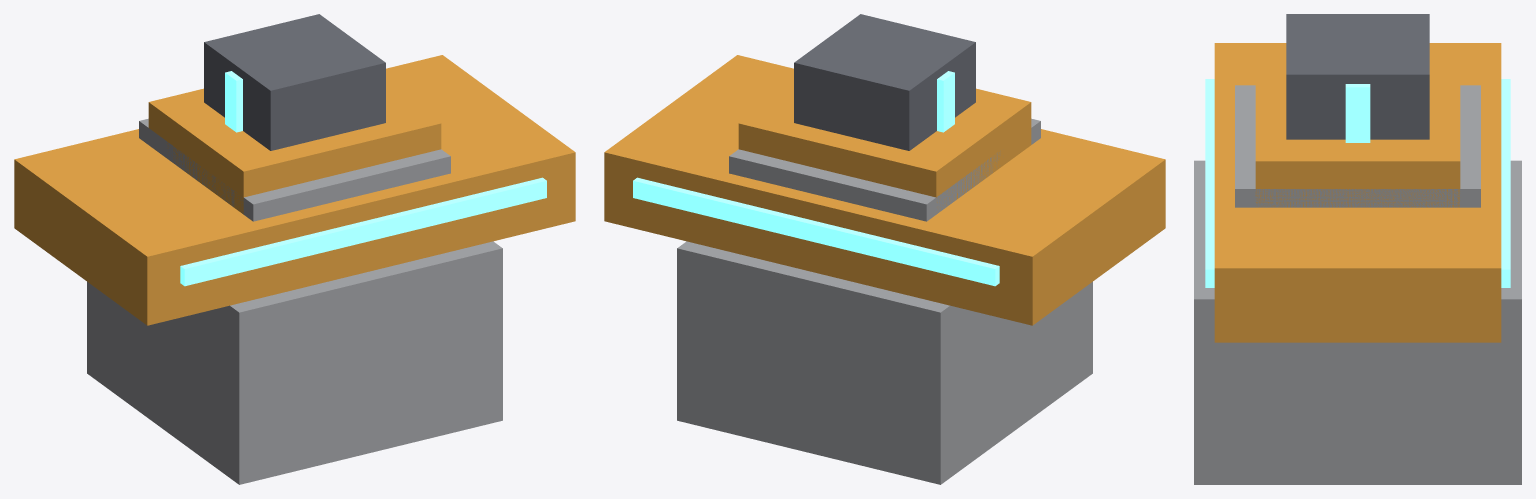
File: zip_pylon.glb
3 renders of one model, left to right at view 1: azimuth 30°, elevation 25°; view 2: azimuth 150°, elevation 25°; view 3: azimuth 270°, elevation 25°, orthographic. The views are drawn at different scales.
Parts seen in each view (by area): view 1: Cradle, Base, Column, CradleNeon, ColumnNeon; view 2: Cradle, Base, Column, CradleNeon, ColumnNeon; view 3: Cradle, Base, Column, CradleNeon, ColumnNeon.
Part boxes in pixels (x1,y1,x2,y2): Cradle: (14,55,575,325); Base: (87,118,502,484); Column: (204,14,385,150); CradleNeon: (180,177,546,286); ColumnNeon: (225,71,242,132); Cradle: (604,55,1165,325); Base: (677,118,1092,484); Column: (794,14,975,150); CradleNeon: (633,177,999,286); ColumnNeon: (937,71,954,132); Cradle: (1214,43,1501,342); Base: (1194,85,1521,484); Column: (1286,14,1429,139); CradleNeon: (1205,79,1510,287); ColumnNeon: (1345,84,1370,142).
Size of the model in its own units: 2.6 by 2 by 1.6.
